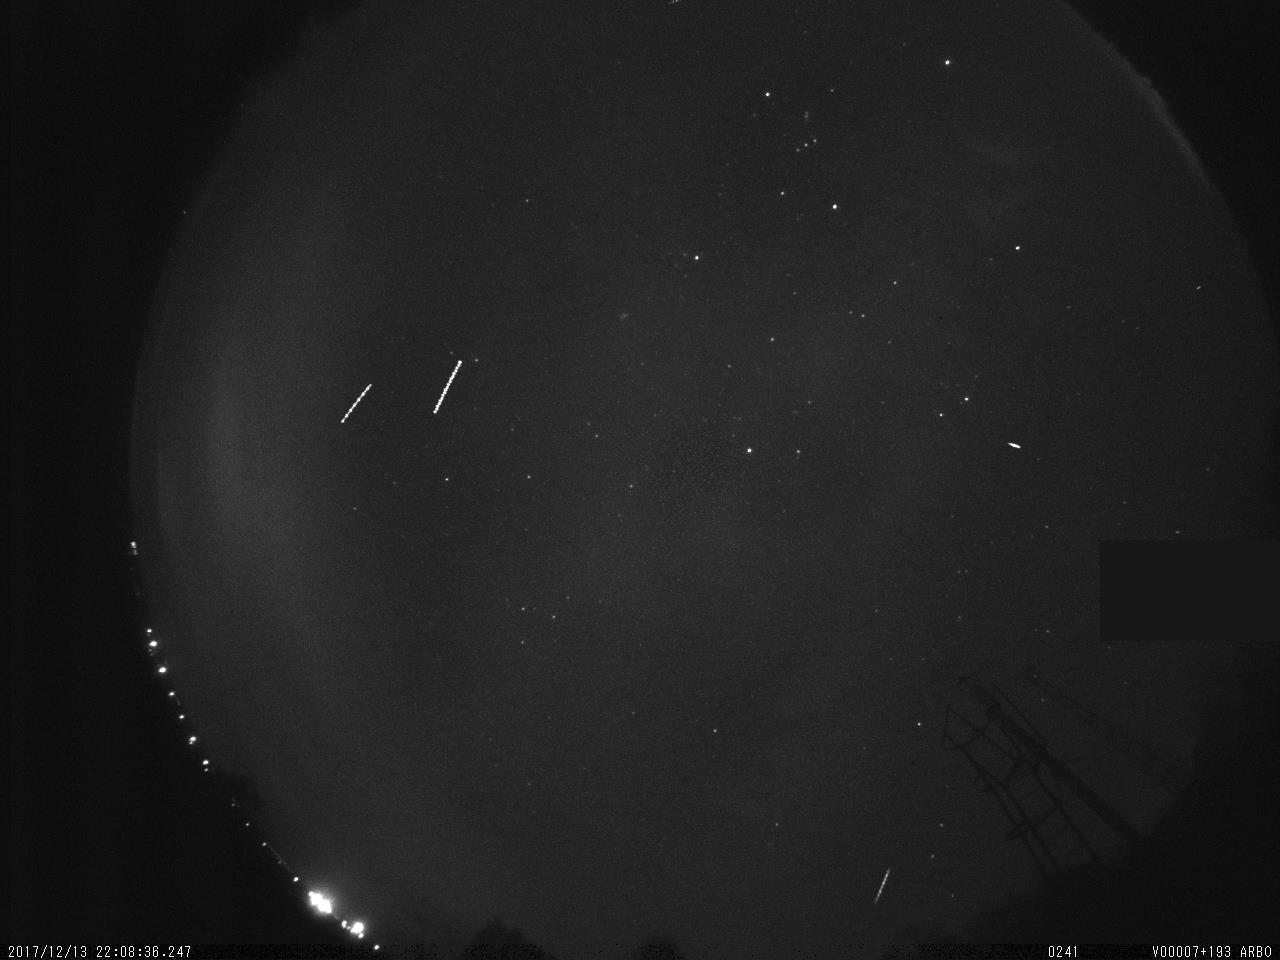meteor: (1004, 435, 1025, 456)
satelite: (427, 346, 469, 423), (331, 372, 377, 434), (870, 861, 896, 908)
